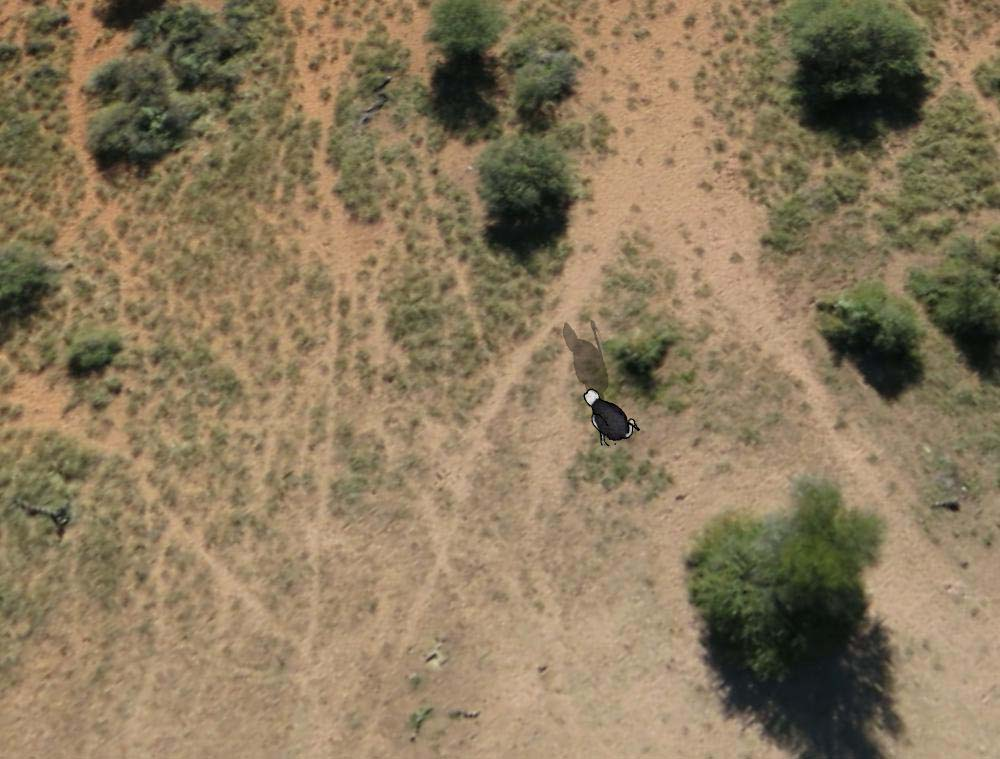springbok: (582, 387, 639, 451)
